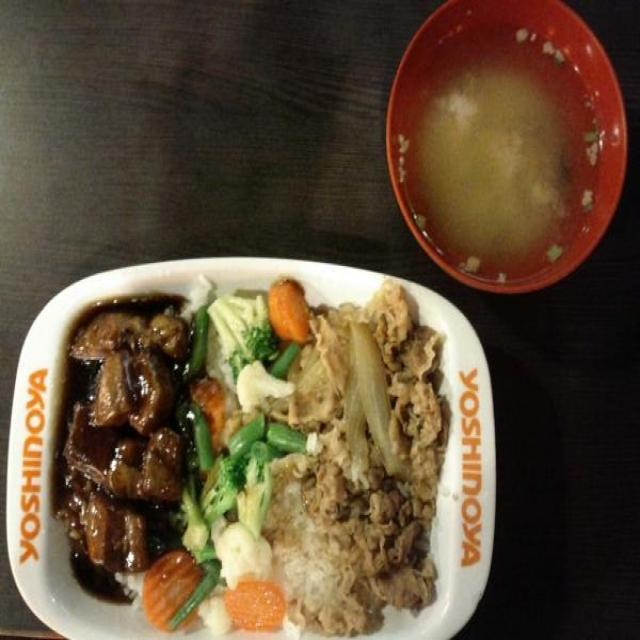汤锅炖物: (377, 0, 627, 296)
